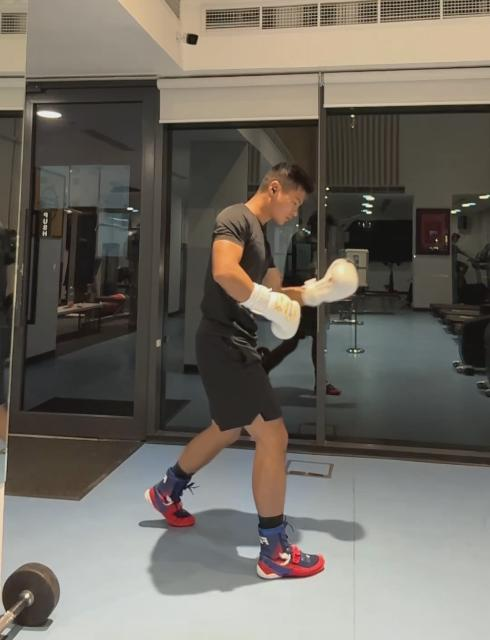punch: (142, 157, 362, 583)
